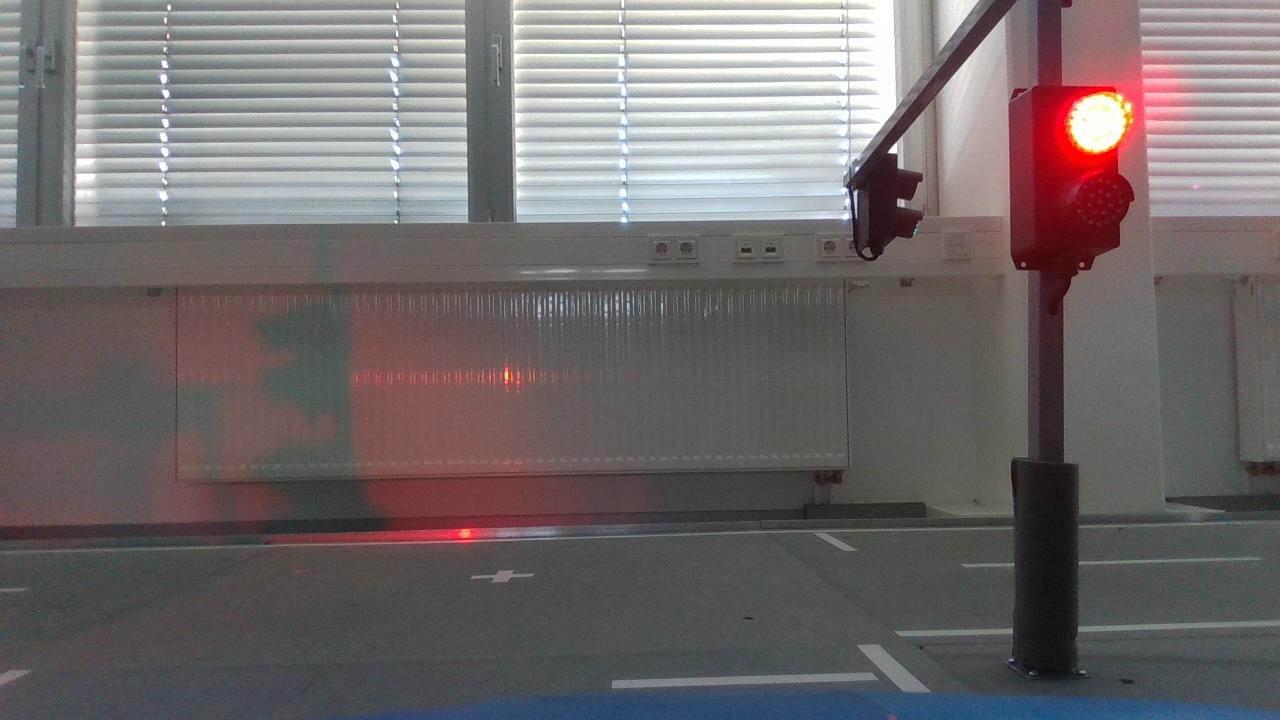traffic_light_red: (1001, 73, 1145, 286)
